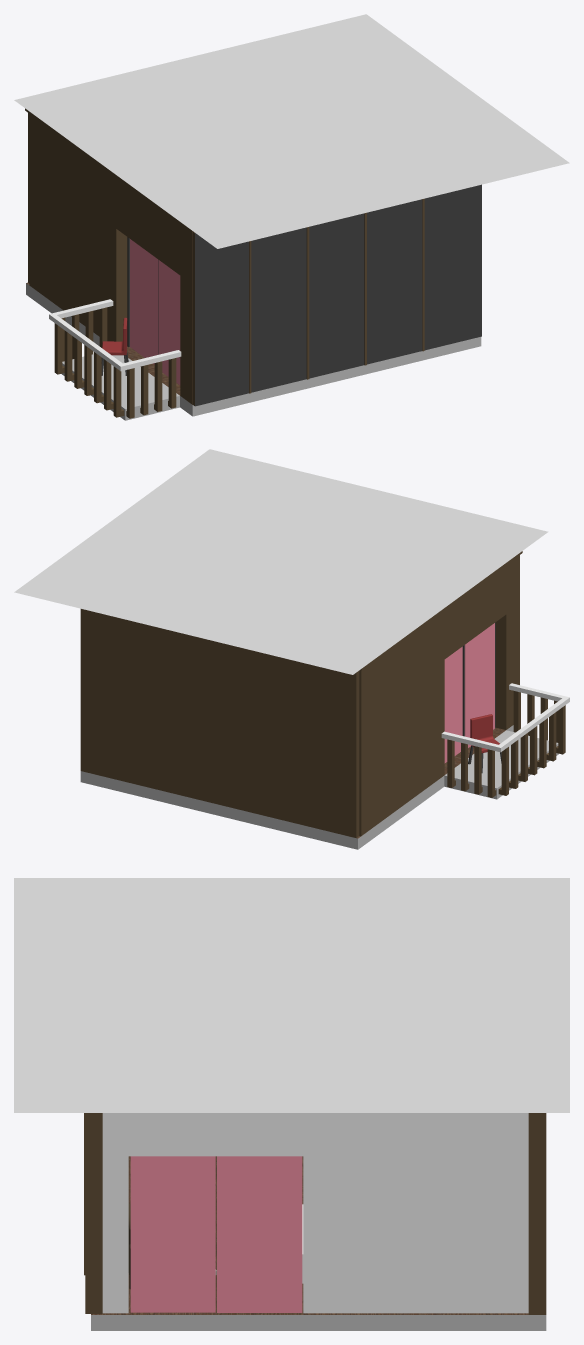
File: korkuoda.fbx
3 views of the same model, one above another, from view 1: azimuth 30°, elevation 25°; view 2: azimuth 150°, elevation 25°; view 3: azimuth 270°, elevation 25° (orthographic). The views are drawn at different scales.
Parts seen in each view (by area): view 1: Plane, wall_1.001, wall_2, balcony, ground, glass_2, glass_1, chair_2; view 2: Plane, wall_1, wall_2, balcony, ground, glass_1, glass_2, chair_2; view 3: Plane, wall_2.001, glass_1.001, glass_2.001, ground, wall_1, wall_1.001.
Part boxes in pixels (<box>): Plane: <box>14,14,569,248</box>; wall_1.001: <box>193,184,481,406</box>; wall_2: <box>25,108,192,404</box>; balcony: <box>49,299,181,418</box>; ground: <box>26,282,481,420</box>; glass_2: <box>130,239,158,364</box>; glass_1: <box>158,260,180,385</box>; chair_2: <box>101,317,128,375</box>; Plane: <box>14,449,548,674</box>; wall_1: <box>80,609,359,837</box>; wall_2: <box>359,551,522,836</box>; balcony: <box>441,683,569,797</box>; ground: <box>80,725,558,849</box>; glass_1: <box>464,623,494,747</box>; glass_2: <box>444,646,462,763</box>; chair_2: <box>468,714,501,773</box>; Plane: <box>14,878,569,1112</box>; wall_2.001: <box>102,1113,528,1313</box>; glass_1.001: <box>130,1156,215,1312</box>; glass_2.001: <box>217,1156,302,1312</box>; ground: <box>91,1156,546,1330</box>; wall_1: <box>528,1113,546,1314</box>; wall_1.001: <box>84,1113,102,1313</box>.
Bounding box in the file's own units: 1794 × 786 × 1535.
